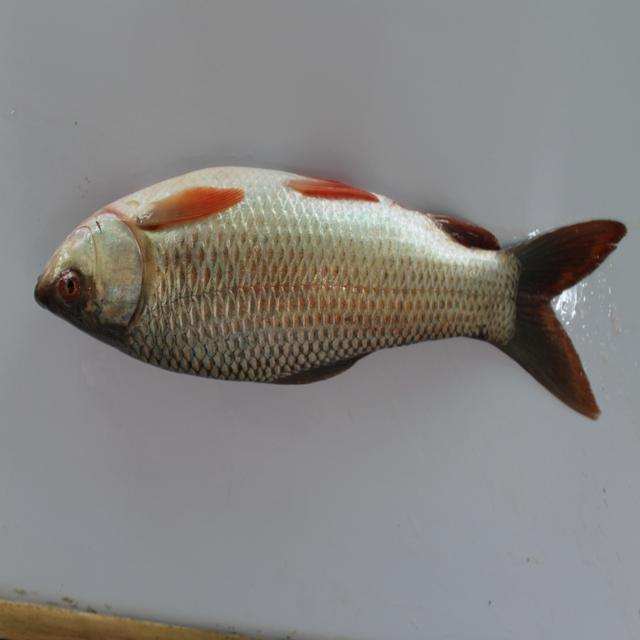Rohu: (22, 142, 640, 463)
